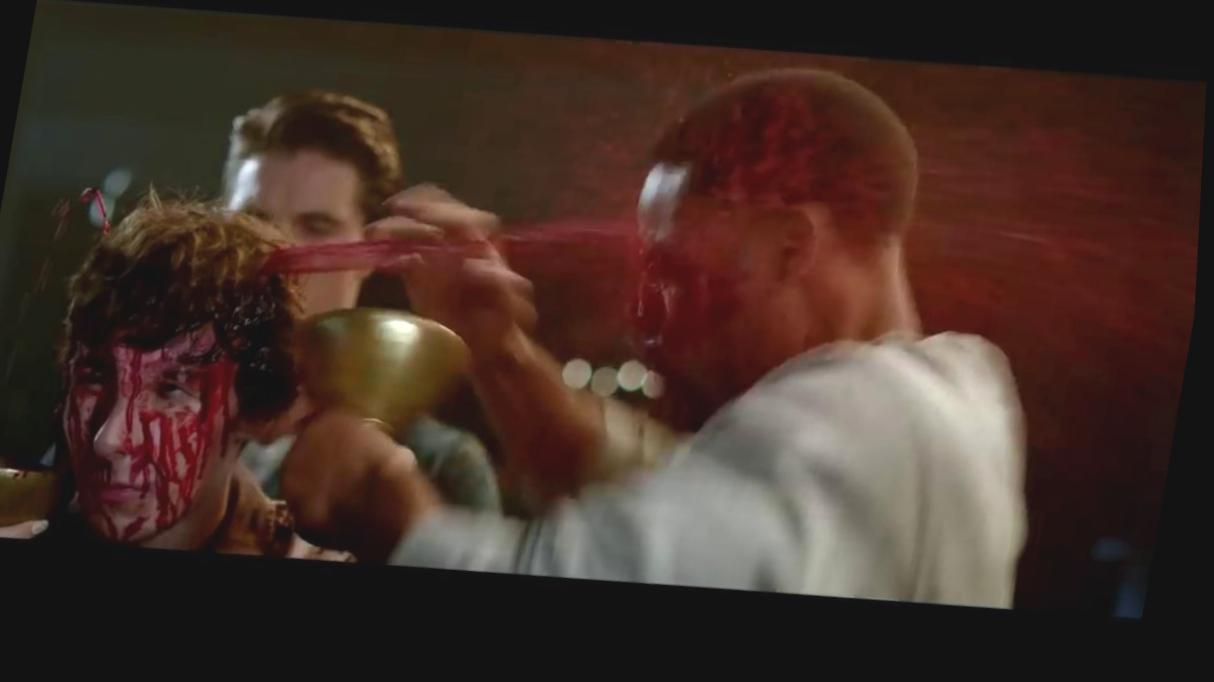Fire: (268, 77, 926, 417), (67, 280, 300, 557), (79, 189, 112, 234), (52, 198, 73, 246), (33, 254, 55, 294)
